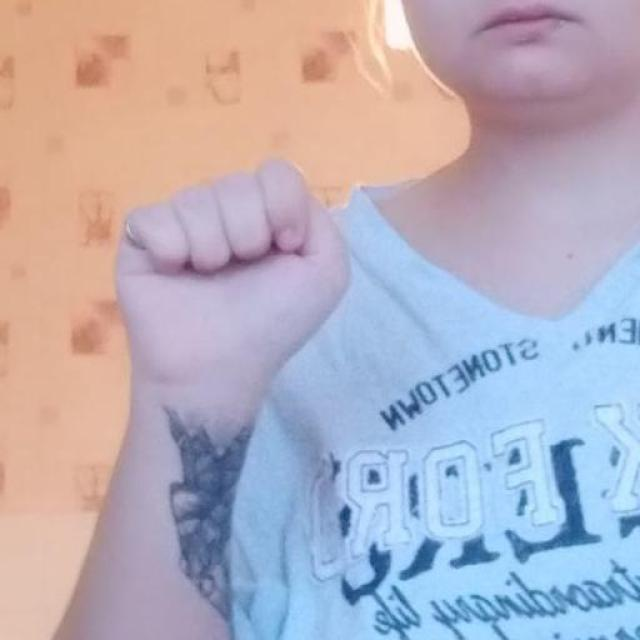hand: (114, 156, 354, 449)
